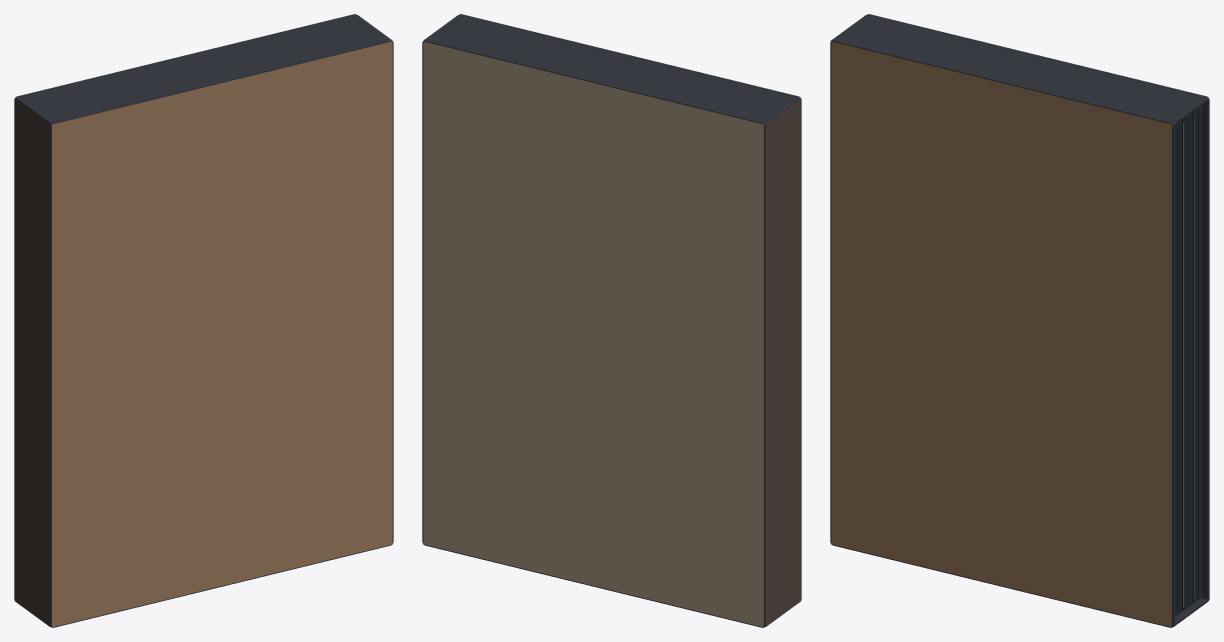
Rendered from boxset.glb.
3 renders of one model, left to right at view 1: azimuth 30°, elevation 25°; view 2: azimuth 150°, elevation 25°; view 3: azimuth 330°, elevation 25°, orthographic.
Visible parts, largest first — view 1: Detail_boxset, Shelf_boxset; view 2: Detail_boxset, Shelf_boxset; view 3: Detail_boxset, Shelf_boxset.
Part boxes in pixels (x1=…): Detail_boxset: x1=14, y1=14, x2=393, y2=627; Shelf_boxset: x1=14, y1=14, x2=393, y2=627; Detail_boxset: x1=422, y1=14, x2=801, y2=627; Shelf_boxset: x1=422, y1=14, x2=801, y2=627; Detail_boxset: x1=830, y1=14, x2=1209, y2=627; Shelf_boxset: x1=830, y1=14, x2=1209, y2=627.
Bounding box in the file's own units: 0.135 × 0.1899 × 0.025.
